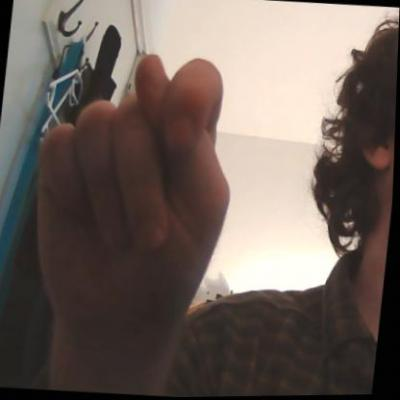hand: (22, 46, 246, 340)
